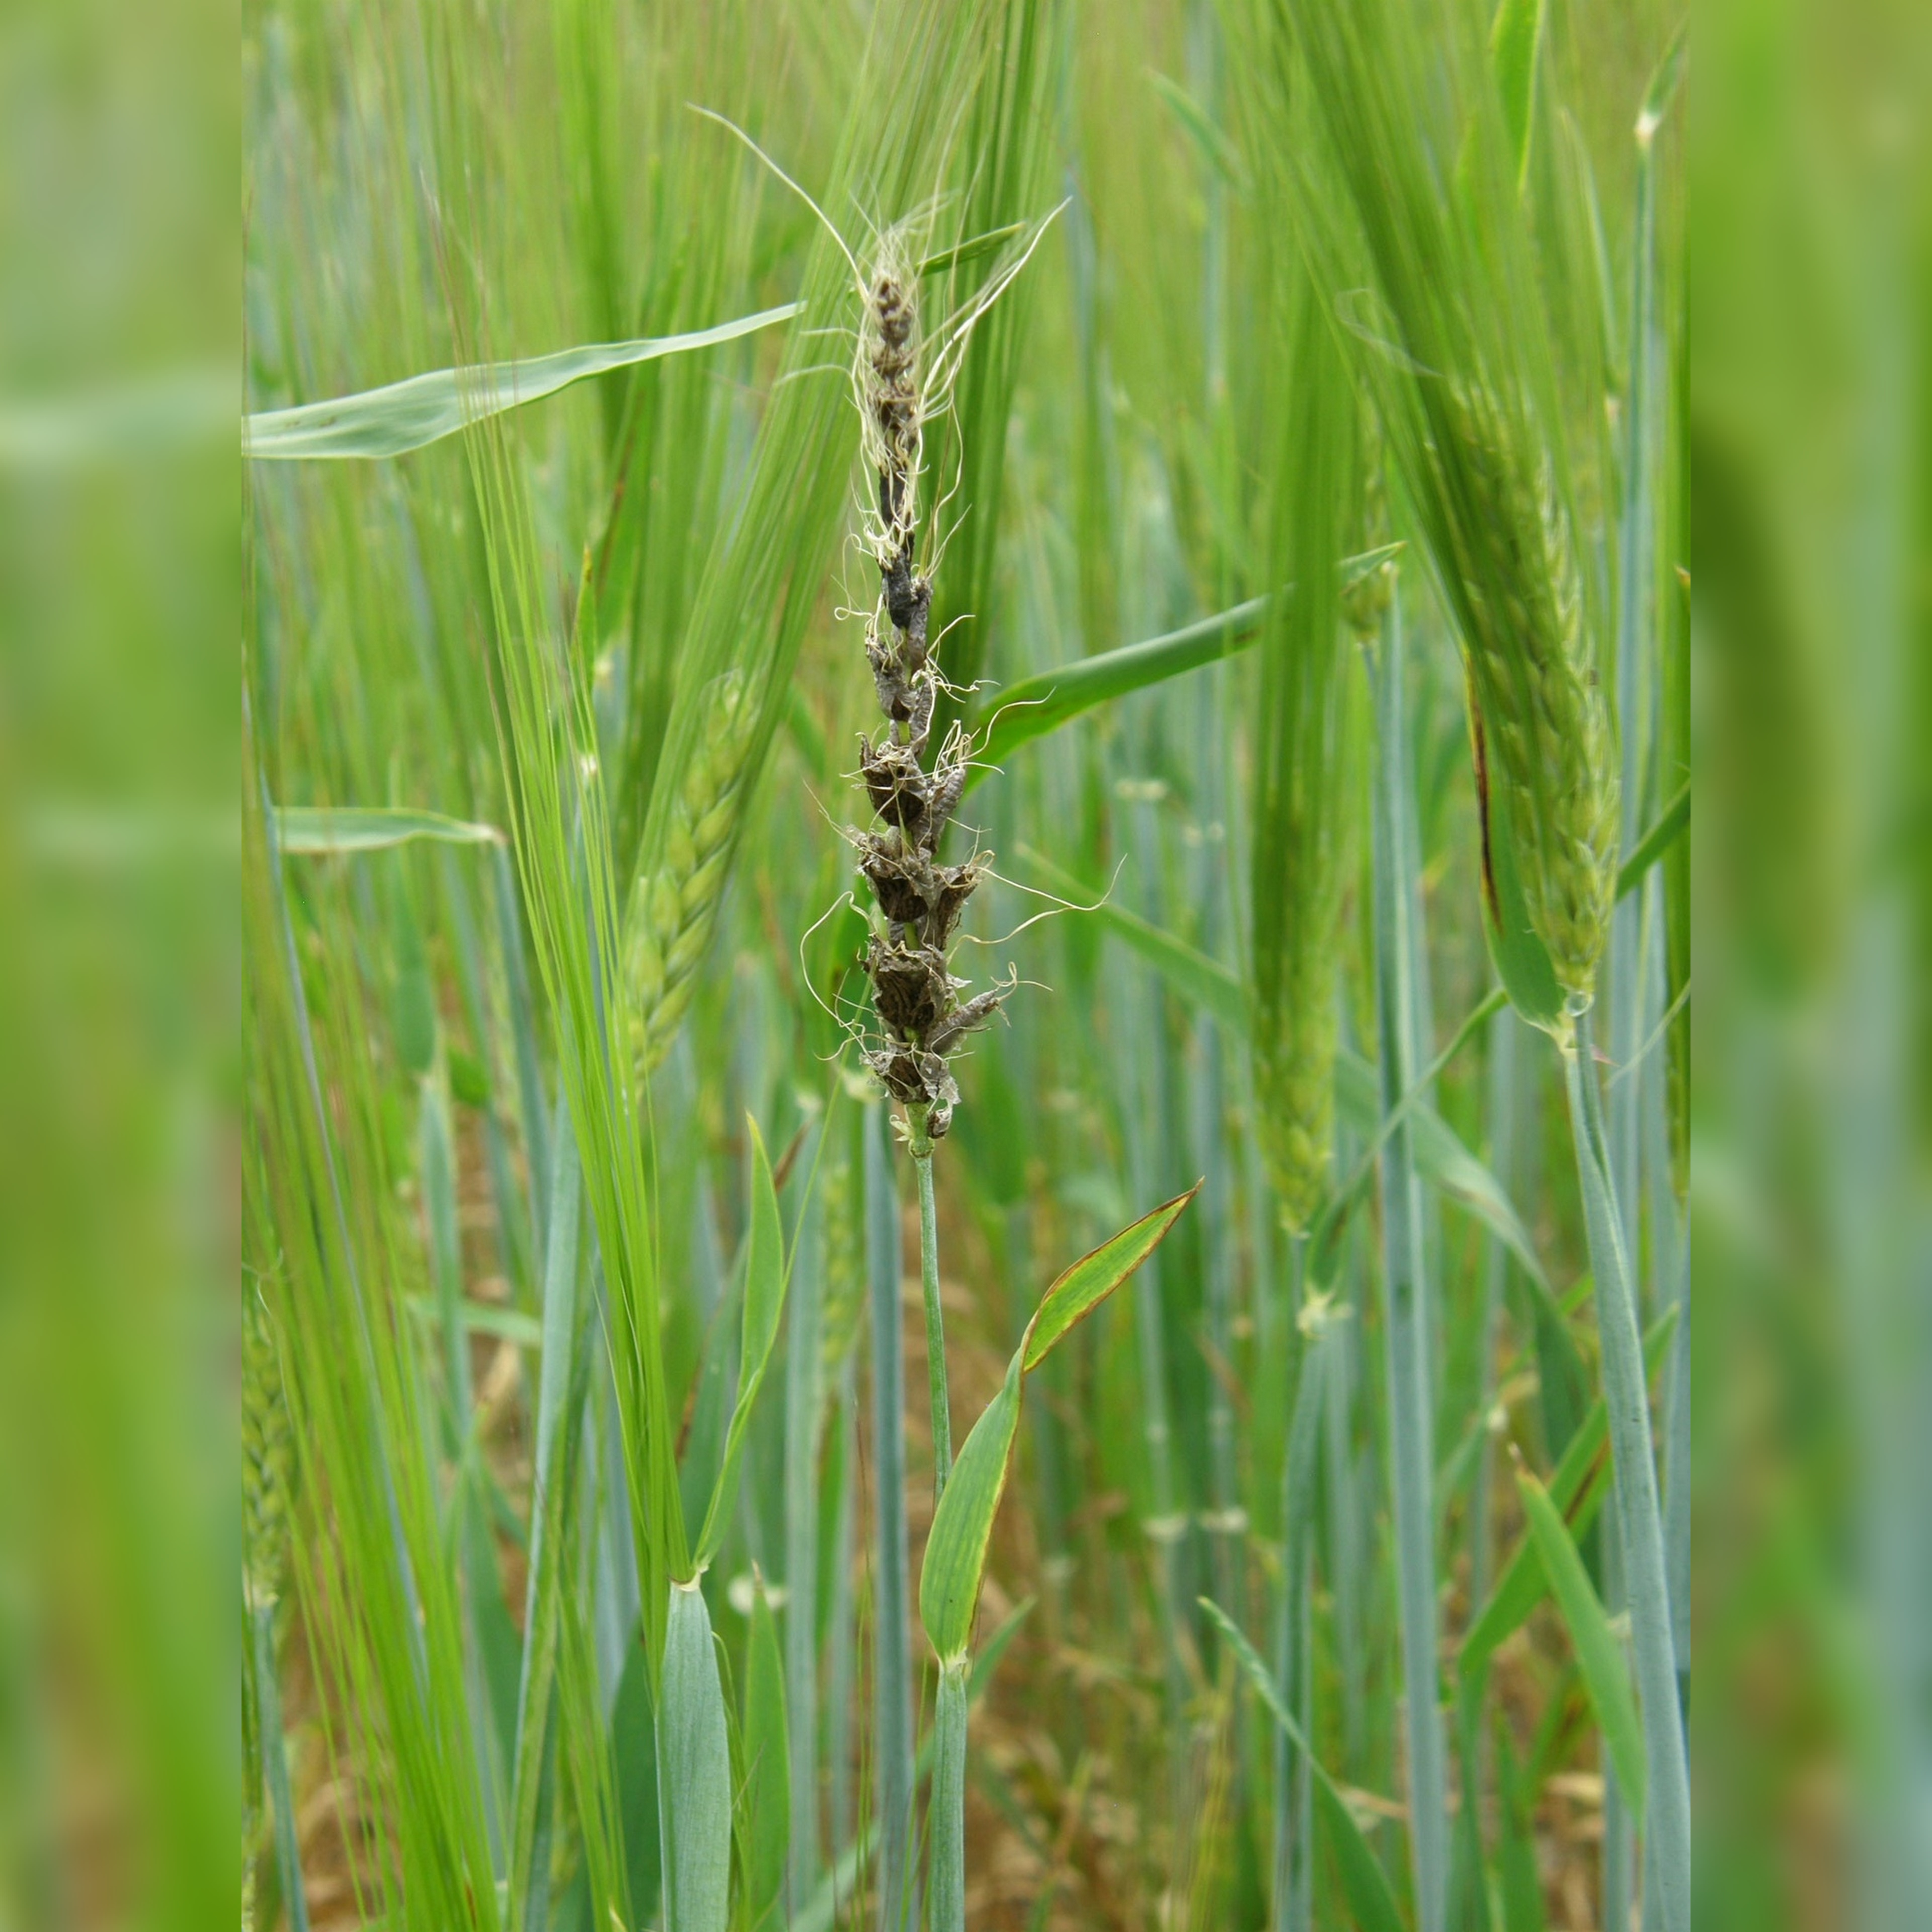Wheat Loose Smut: (807, 228, 1021, 1141)
